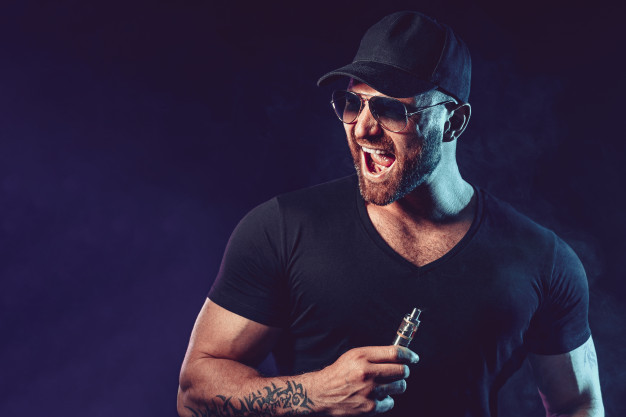glasses: (319, 80, 433, 144)
